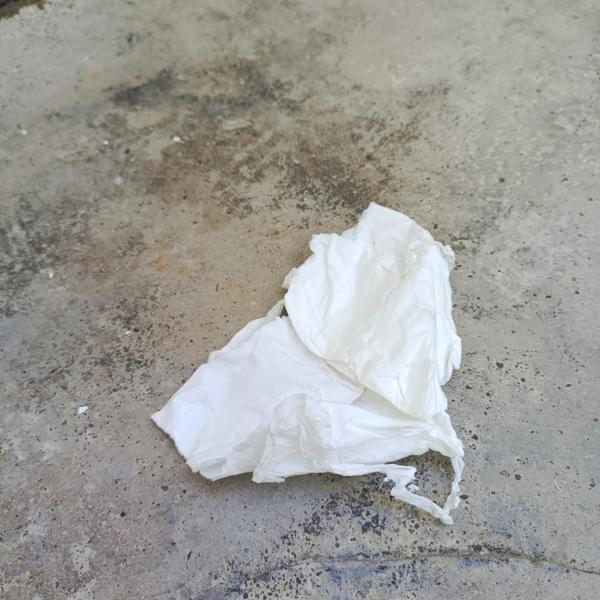Organik: (139, 193, 483, 537)
